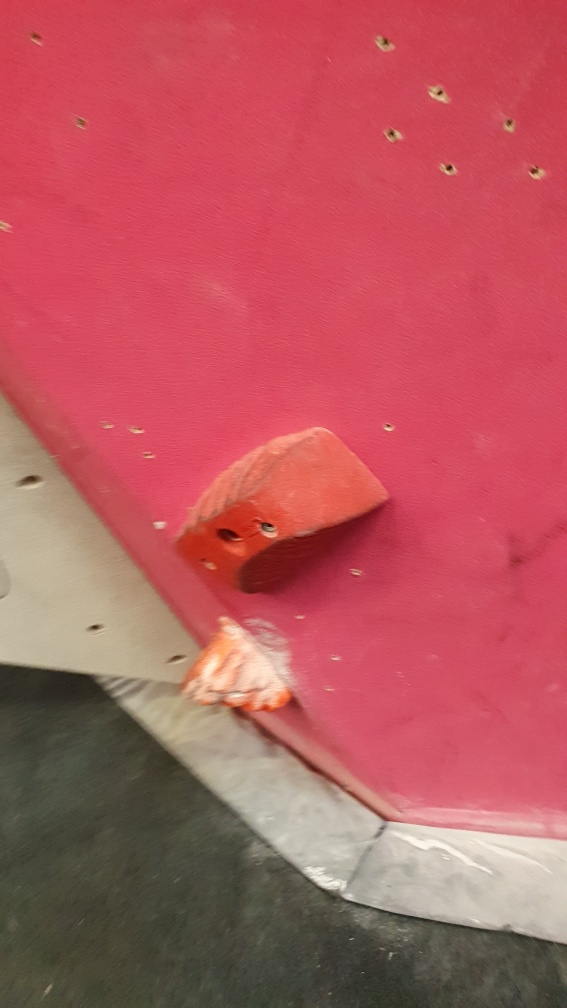Crimp: (167, 424, 392, 598)
Jug: (177, 615, 295, 719)
